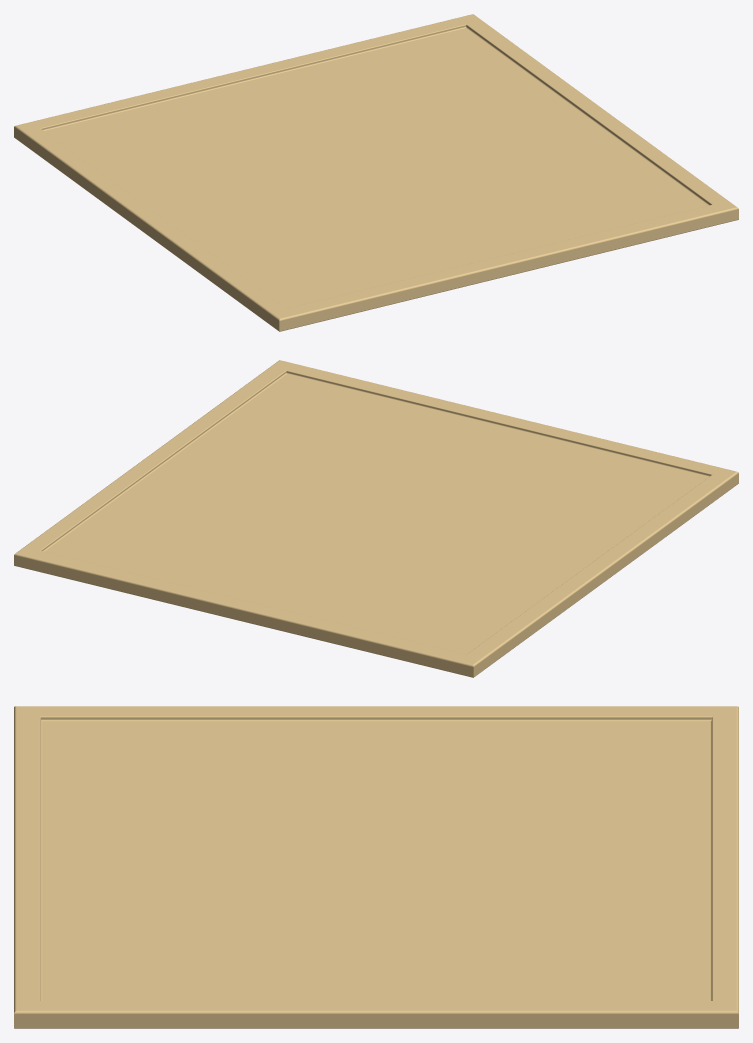
The model's file is board.glb.
3 renders of one model, top to bottom at view 1: azimuth 30°, elevation 25°; view 2: azimuth 150°, elevation 25°; view 3: azimuth 270°, elevation 25°, orthographic. The views are drawn at different scales.
Visible parts, largest first — view 1: geometry_0; view 2: geometry_0; view 3: geometry_0.
Part boxes in pixels (left/top/right/bottom): geometry_0: left=14, top=14, right=738, bottom=331; geometry_0: left=14, top=360, right=738, bottom=677; geometry_0: left=14, top=706, right=738, bottom=1028.
Size of the model in its own units: 5.4 by 0.142 by 5.4.
